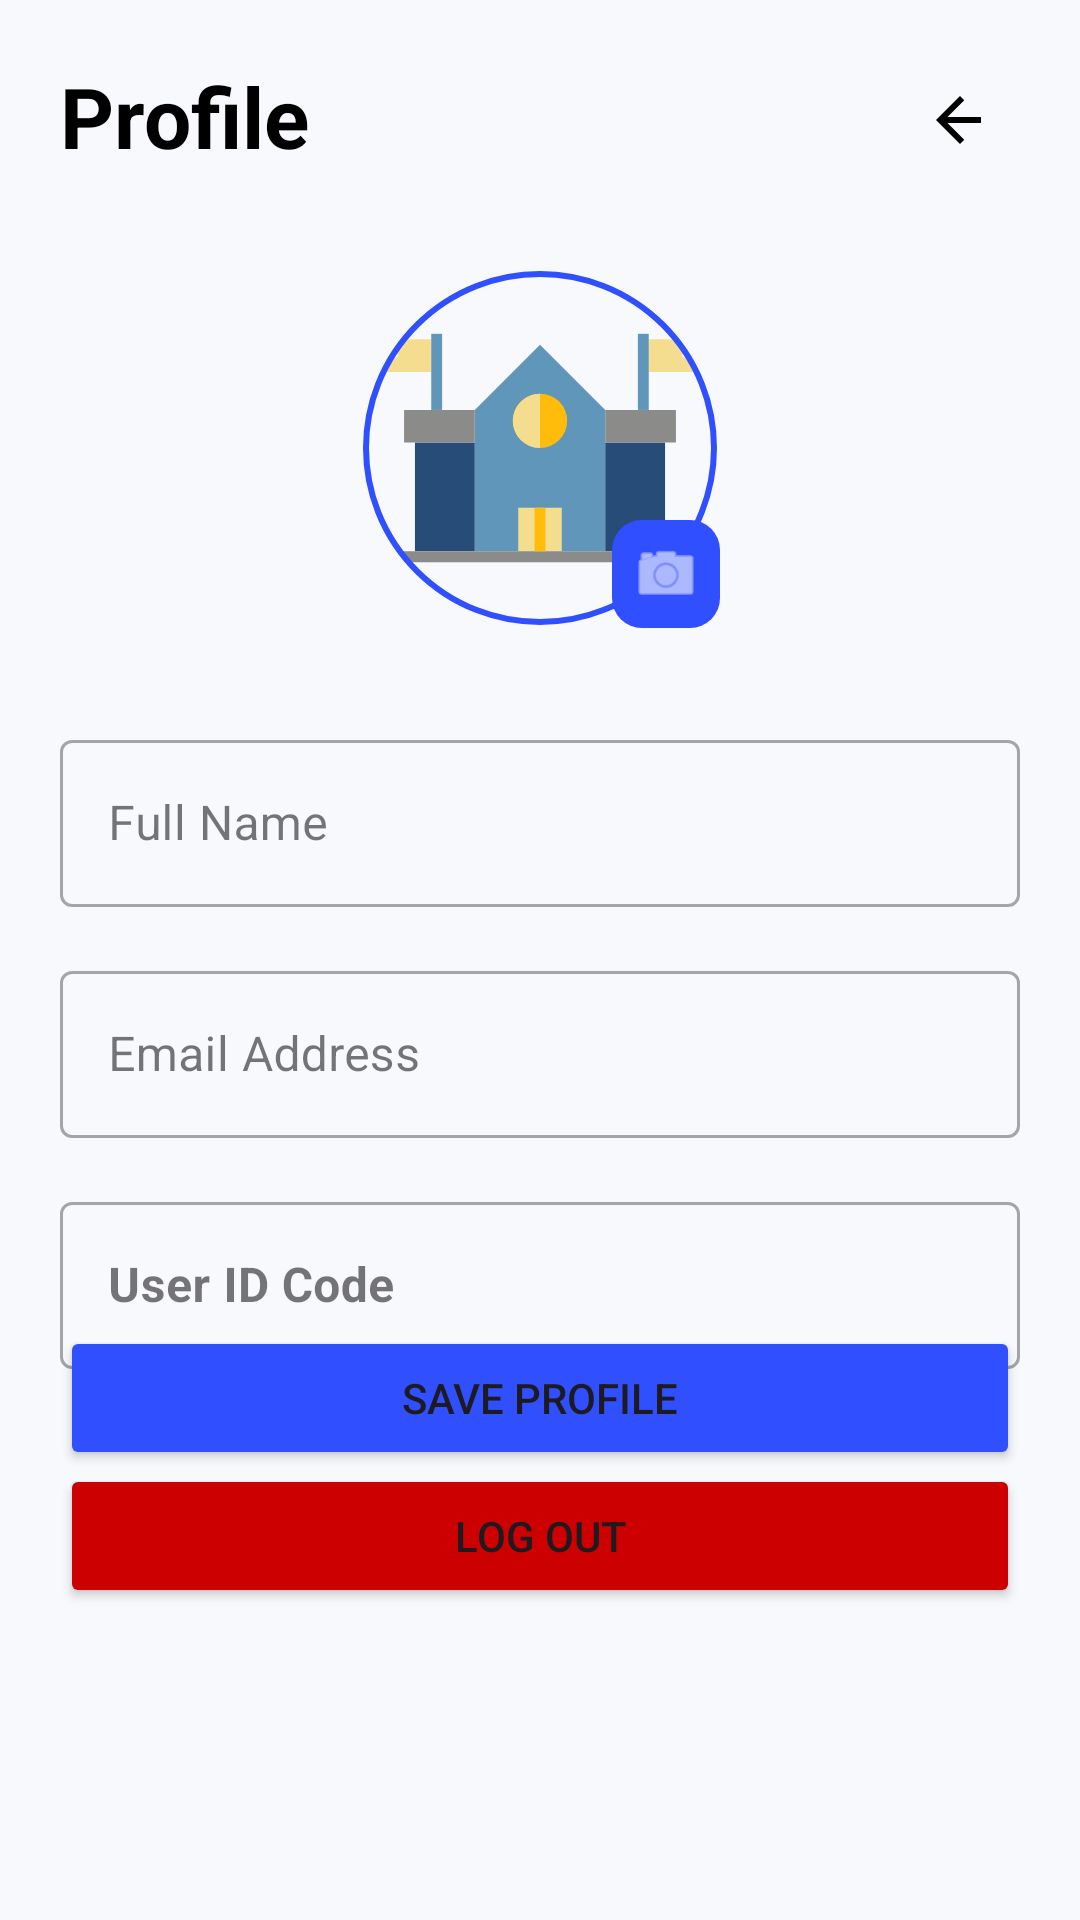

Named icons in this screenshot (1080x1920) and their bounding boxes, (x1, y1, x2, y2):
Back: (936, 96, 981, 144)
camera: (612, 520, 720, 628)
